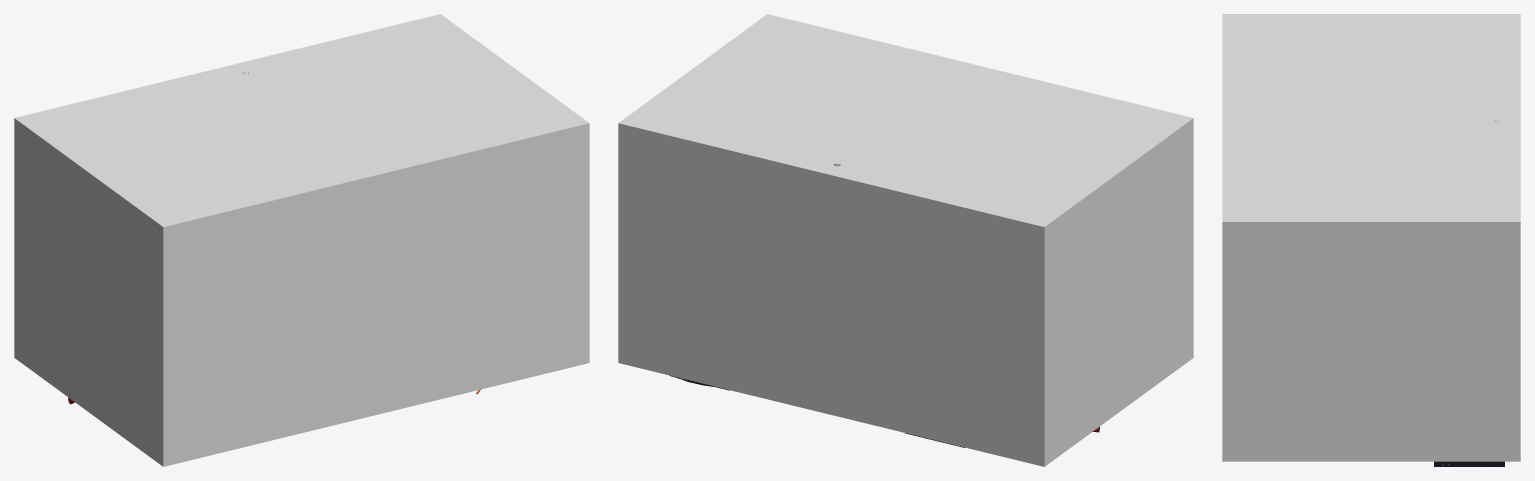
The model's file is Furn_Workstation_Lived_B.gltf.
3 views of the same model, side by side, from view 1: azimuth 30°, elevation 25°; view 2: azimuth 150°, elevation 25°; view 3: azimuth 270°, elevation 25° (orthographic).
Parts seen in each view (by area): view 1: Furn_Workstation_Lived_B_COL; view 2: Furn_Workstation_Lived_B_COL; view 3: Furn_Workstation_Lived_B_COL, Furn_Workstation_Lived_B.
Part boxes in pixels (x1,y1,x2,y2): Furn_Workstation_Lived_B_COL: (14, 14, 589, 466); Furn_Workstation_Lived_B_COL: (618, 14, 1193, 466); Furn_Workstation_Lived_B_COL: (1222, 14, 1520, 461); Furn_Workstation_Lived_B: (1434, 121, 1504, 466).
Size of the model in its own units: 3.12 by 1.73 by 1.89.
19 materials, 5 textured.
